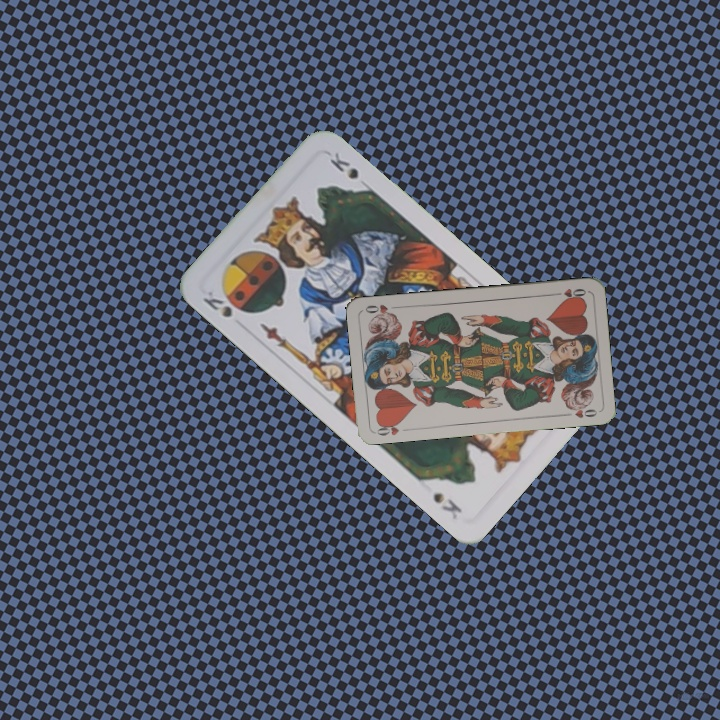HO: (548, 284, 588, 302), (371, 418, 404, 438)
SK: (198, 286, 251, 320)
